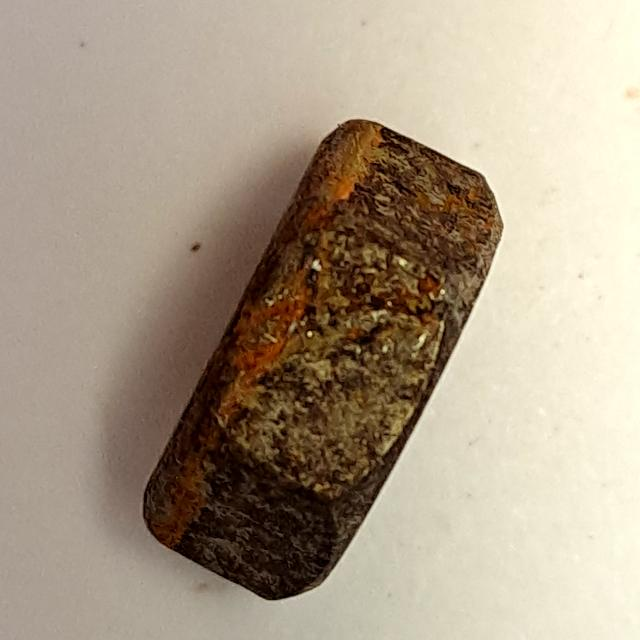Side_Rust: (117, 109, 510, 618)
